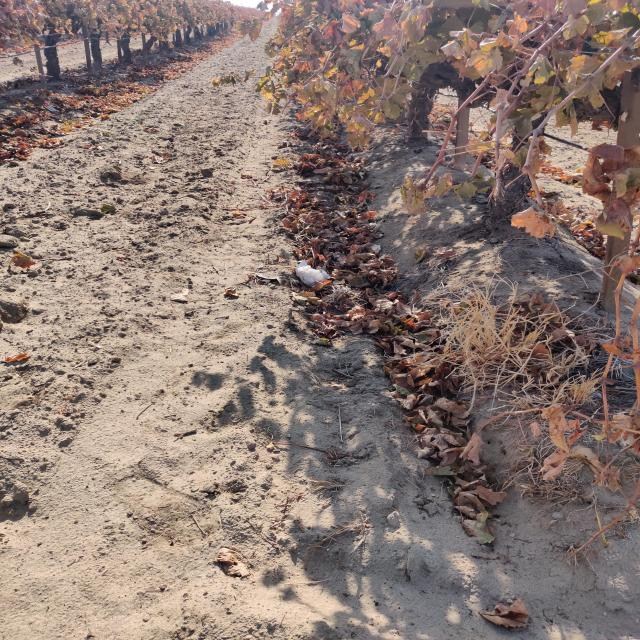litter: (252, 252, 329, 291)
